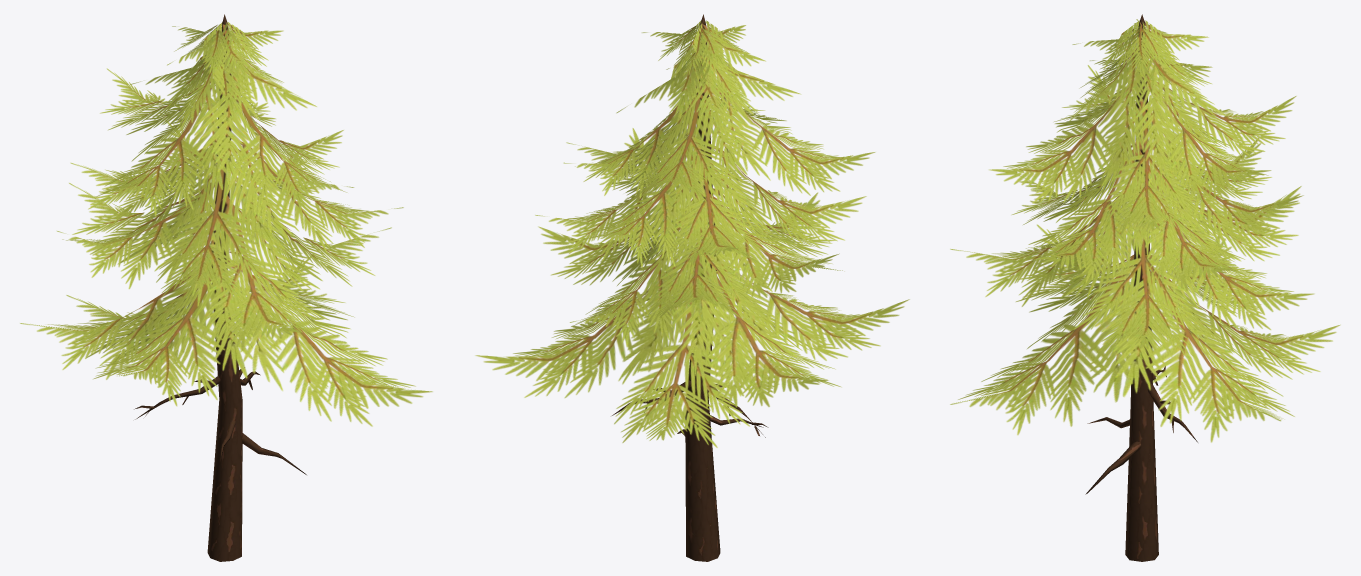
The model's file is pine-trees-4.glb.
3 renders of one model, left to right at view 1: azimuth 30°, elevation 25°; view 2: azimuth 150°, elevation 25°; view 3: azimuth 270°, elevation 25°, orthographic.
Visible parts, largest first — view 1: PineTree_1; view 2: PineTree_1; view 3: PineTree_1.
Boxes of the visible parts, box(x1,y1,x2,y2) form: PineTree_1: box(20, 14, 432, 561); PineTree_1: box(475, 14, 909, 561); PineTree_1: box(950, 14, 1340, 561).
Bounding box in the file's own units: 2.98 × 4.5 × 3.03.
2 materials, 2 textured.
